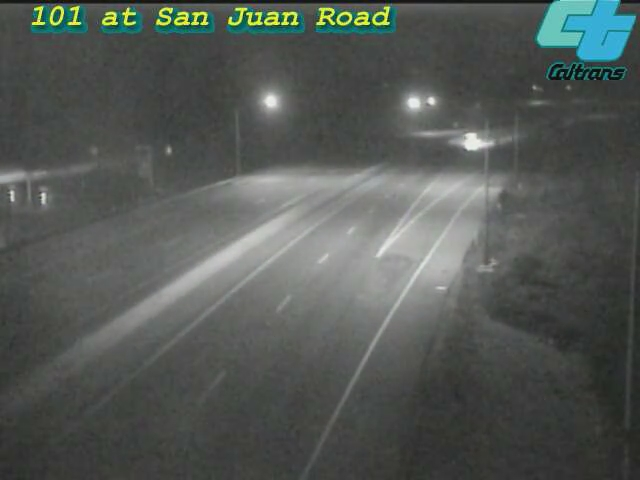vehicle: (446, 117, 496, 167)
